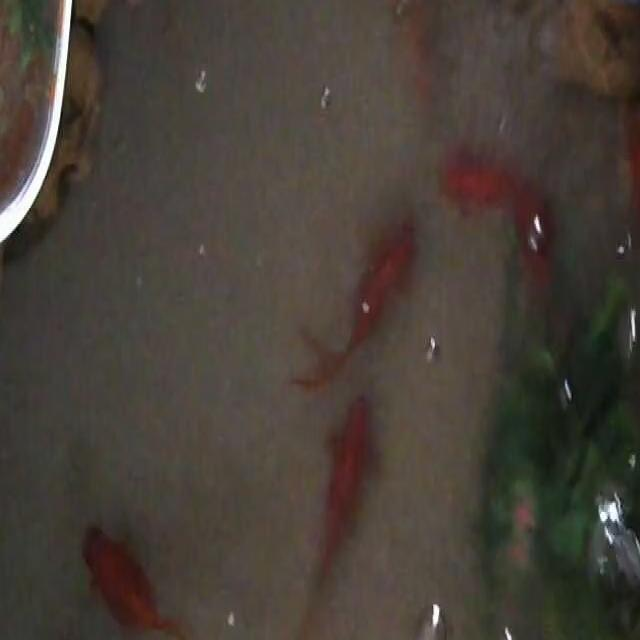fish: (293, 218, 417, 392), (293, 386, 375, 640), (438, 150, 560, 308), (78, 519, 188, 640), (439, 150, 526, 216), (393, 0, 442, 103)
